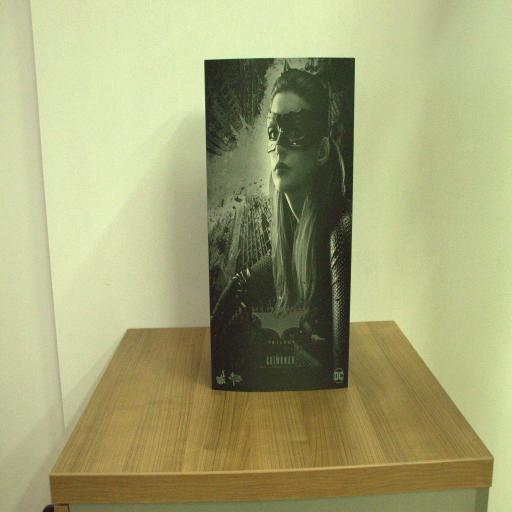catwoman: (204, 57, 359, 390)
